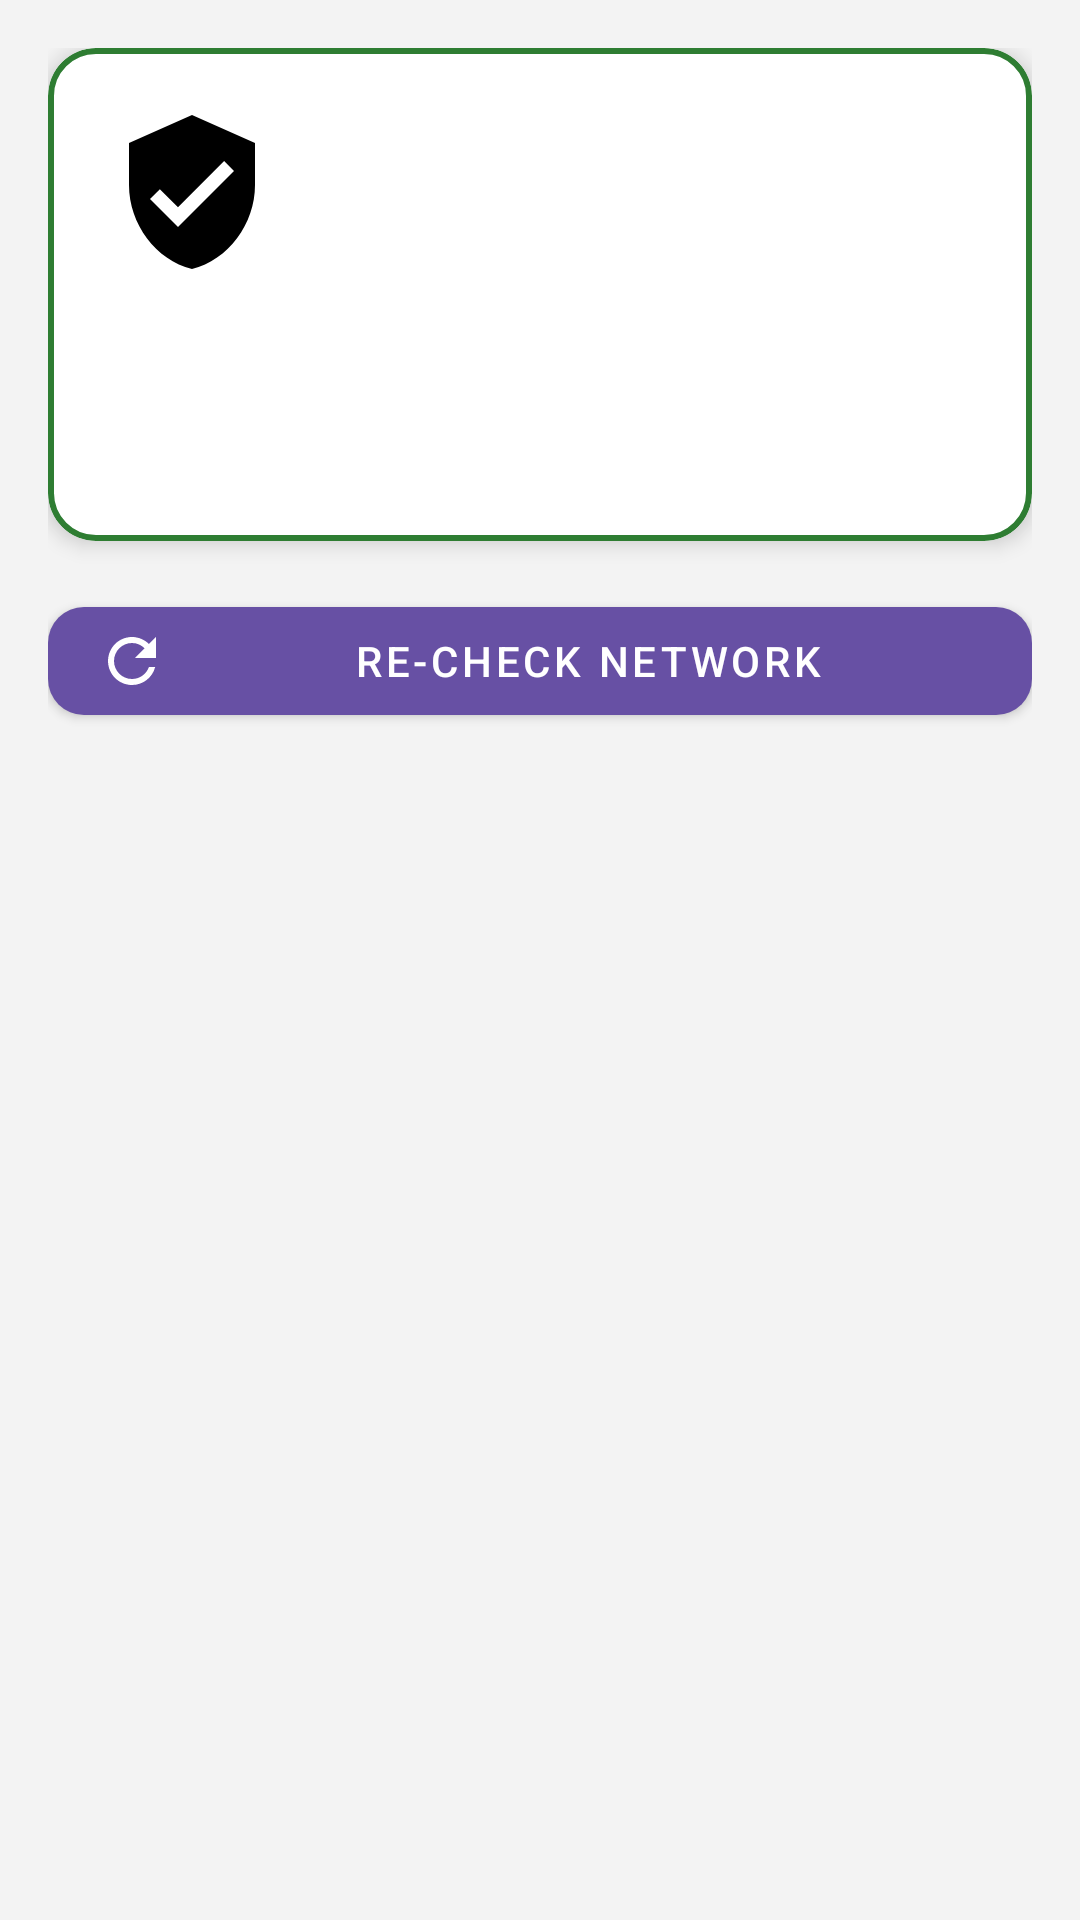

Point at icon controls on the screen. Image size 1080x1920, points as (x=x, y=y).
shield ok: (x=192, y=192)
